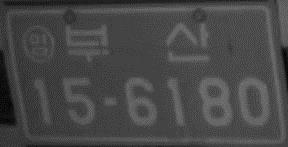-: (101, 93, 120, 108)
0: (237, 75, 271, 128)
1: (30, 75, 56, 126), (165, 75, 189, 129)
5: (60, 75, 98, 127)
6: (124, 75, 159, 129)
8: (197, 74, 235, 129)
부산_D: (64, 19, 211, 68)
영: (21, 23, 56, 64)
